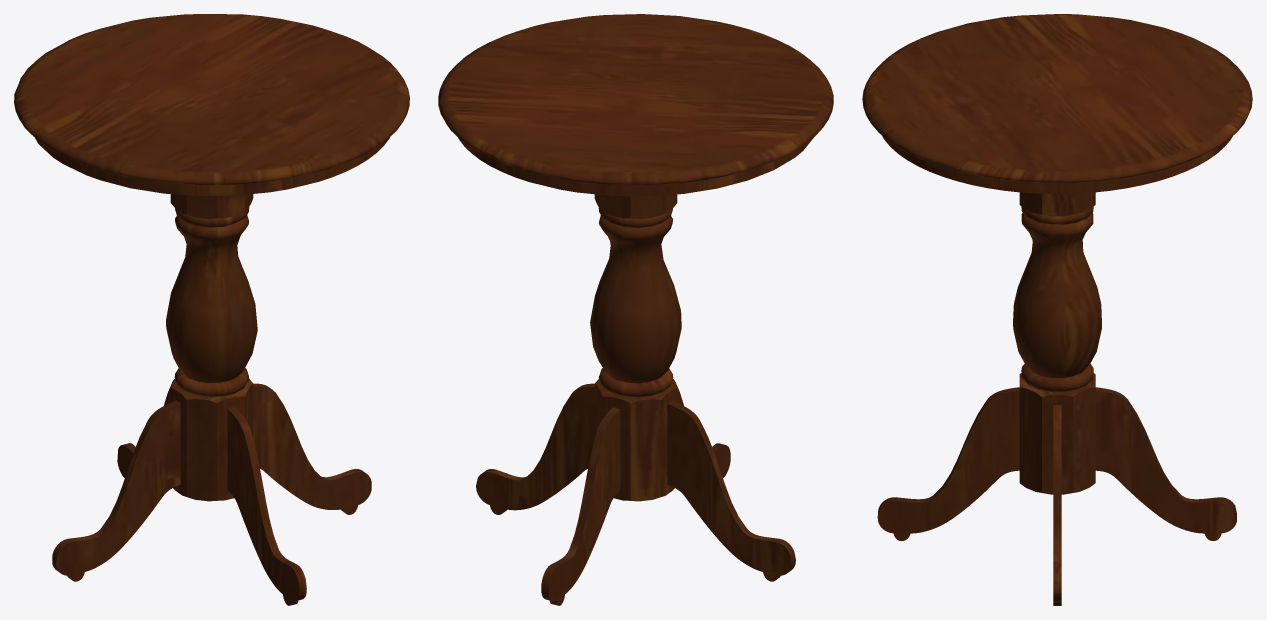
File: roundtable2.glb
3 renders of one model, left to right at view 1: azimuth 30°, elevation 25°; view 2: azimuth 150°, elevation 25°; view 3: azimuth 270°, elevation 25°, orthographic.
Visible parts, largest first — view 1: Chair_Table_Mat_0; view 2: Chair_Table_Mat_0; view 3: Chair_Table_Mat_0.
Part boxes in pixels (x1=…): Chair_Table_Mat_0: x1=14, y1=14, x2=409, y2=605; Chair_Table_Mat_0: x1=438, y1=14, x2=833, y2=605; Chair_Table_Mat_0: x1=862, y1=14, x2=1252, y2=605.
Size of the model in its own units: 0.7224 by 0.9123 by 0.7225.
1 material, 1 textured.
